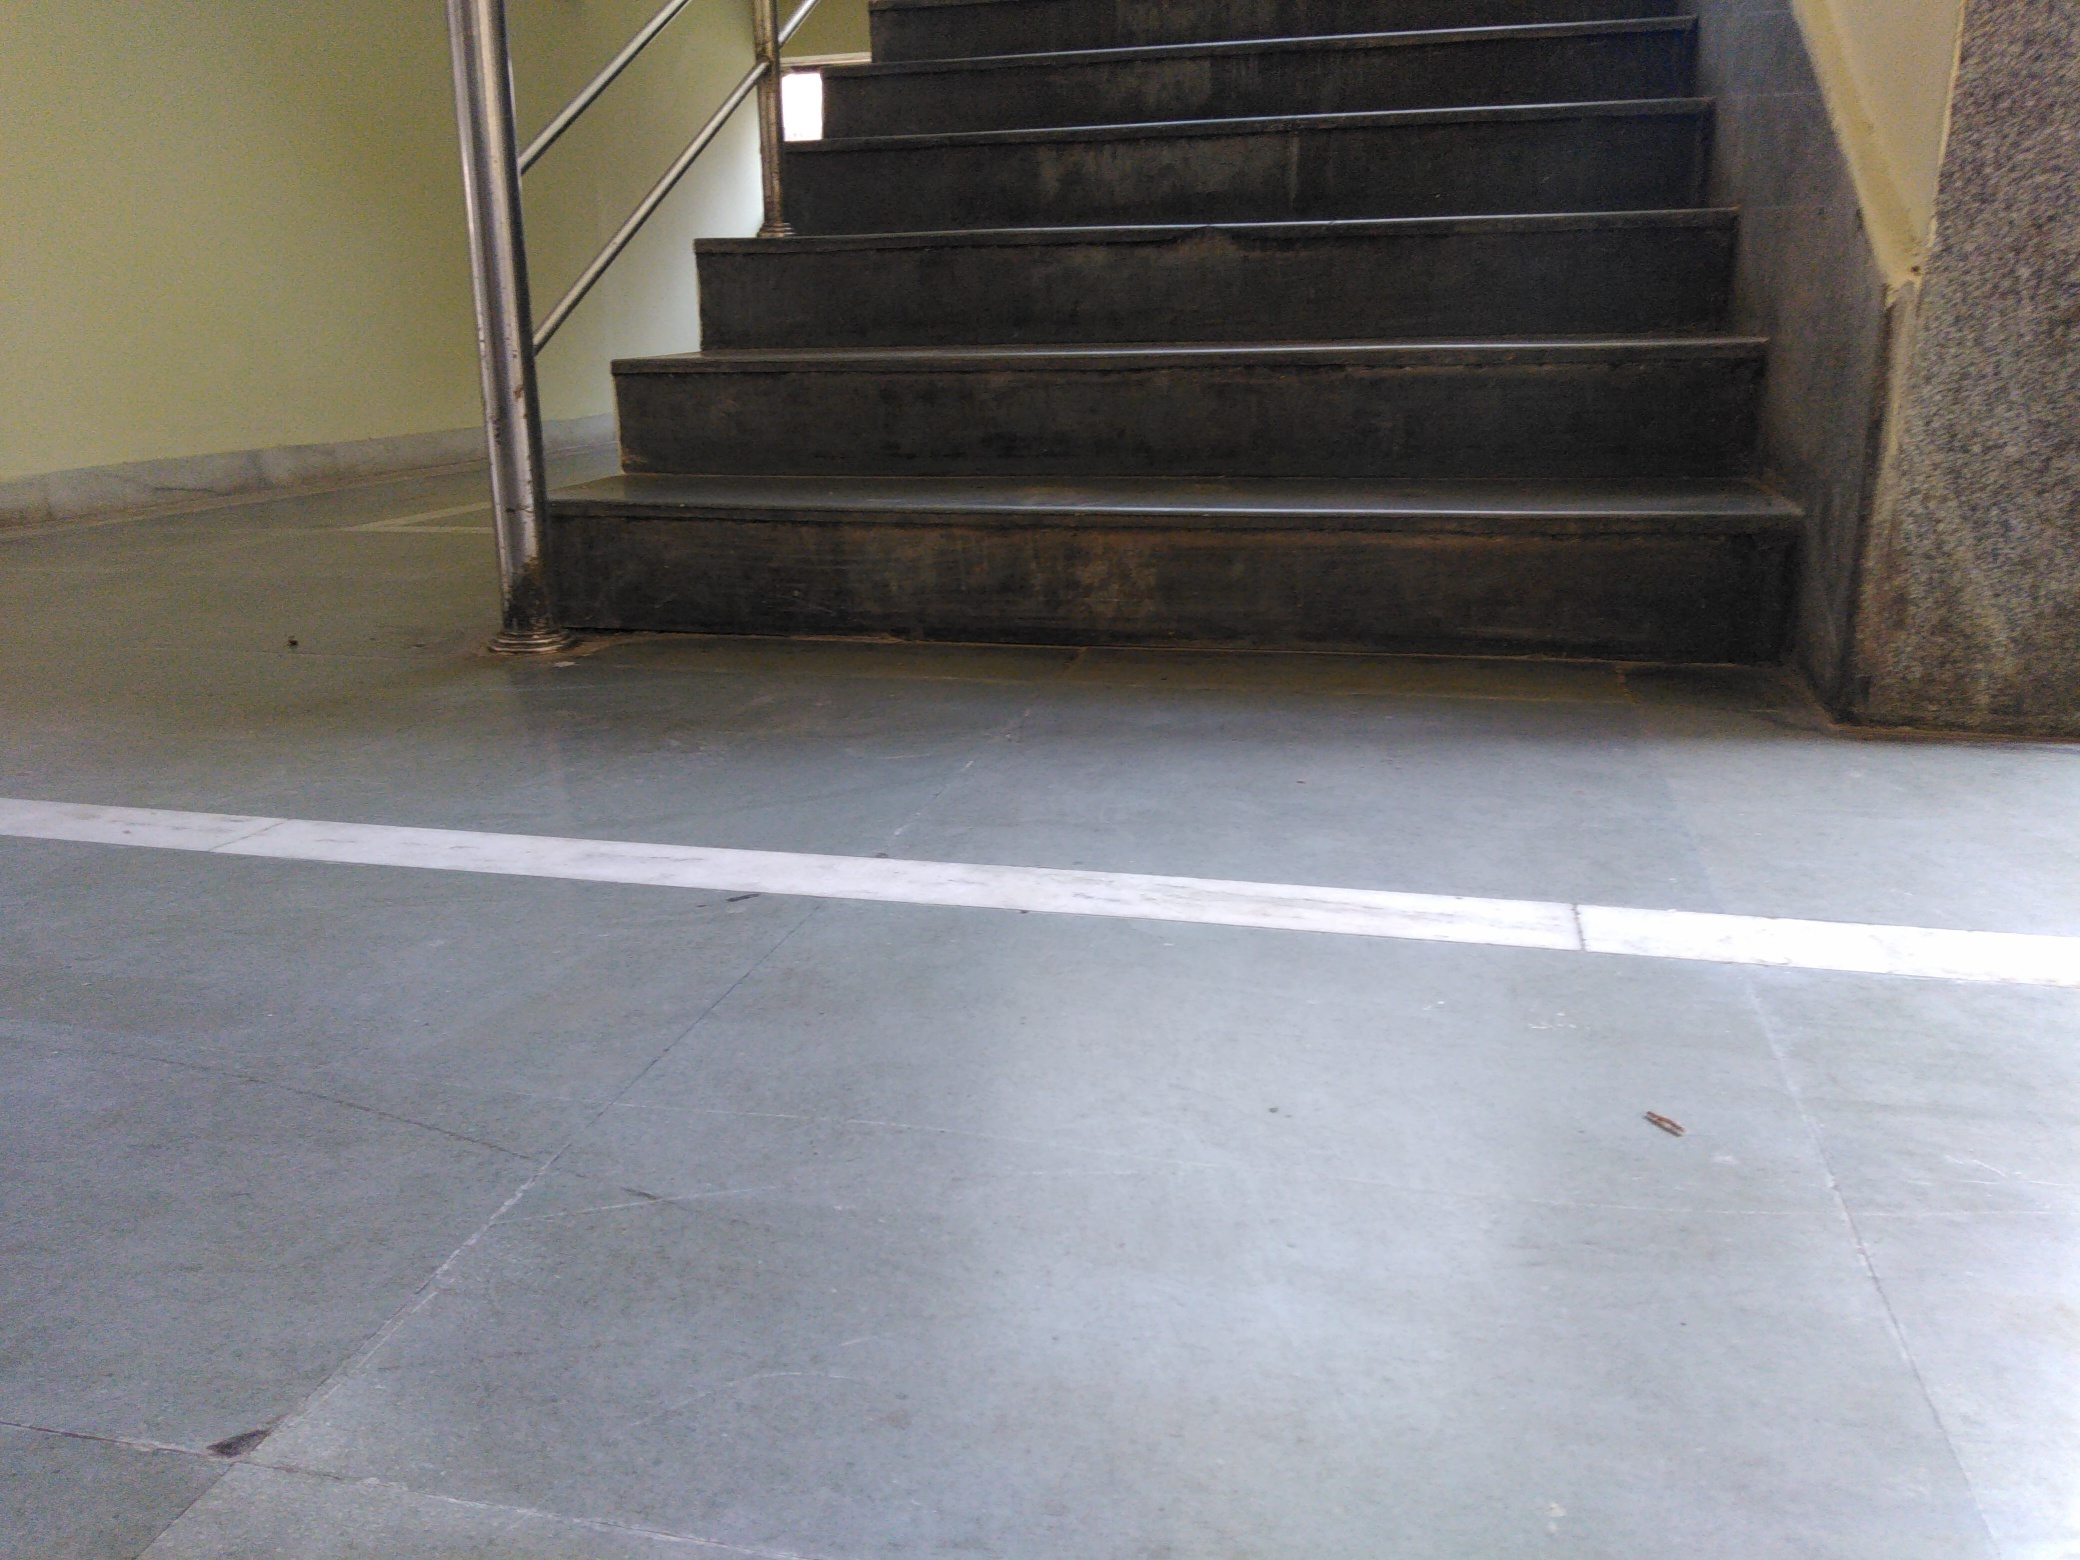stairs_up: (534, 11, 1810, 642)
